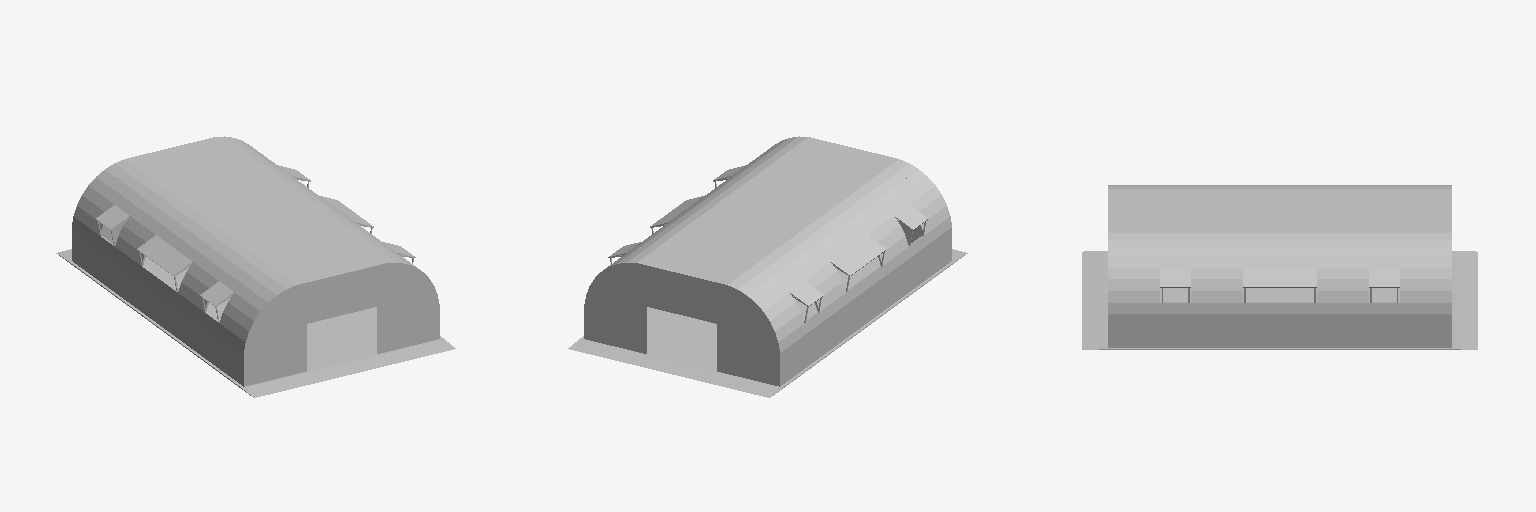
File: Military_Canvas.obj
3 renders of one model, left to right at view 1: azimuth 30°, elevation 25°; view 2: azimuth 150°, elevation 25°; view 3: azimuth 270°, elevation 25°, orthographic.
Visible parts, largest first — view 1: Part248, Part227, Base1, Part141, Part34, Part218, Part276, Part229, Part228, Part224, Part128, Part35 (+6 smaller); view 2: Part248, Part227, Base1, Part125, Part113, Part218, Part276, Part229, Part228, Part224, Part166, Part127 (+6 smaller); view 3: Part248, Part16, Part26, Part21, Part17, Base1, Part110, Part82, Part34, Part113, Part24, Part224 (+14 smaller).
Boxes of the visible parts, box(x1,y1,x2,y2) form: Part248: box(125, 137, 387, 285); Part227: box(72, 228, 244, 386); Base1: box(67, 257, 443, 388); Part141: box(297, 264, 387, 325); Part34: box(242, 339, 455, 397); Part218: box(89, 177, 268, 311); Part276: box(96, 170, 276, 302); Part229: box(105, 163, 286, 295); Part228: box(72, 216, 246, 352); Part224: box(115, 159, 296, 289); Part128: box(245, 341, 296, 385); Part35: box(387, 307, 438, 351); Part248: box(637, 137, 898, 285); Part227: box(779, 228, 951, 386); Base1: box(580, 257, 956, 388); Part125: box(637, 264, 726, 325); Part113: box(568, 339, 781, 397); Part218: box(755, 177, 934, 311); Part276: box(747, 170, 927, 302); Part229: box(737, 163, 918, 295); Part228: box(777, 216, 951, 352); Part224: box(727, 159, 908, 289); Part166: box(727, 341, 778, 385); Part127: box(585, 307, 636, 351); Part248: box(1108, 189, 1451, 232); Part16: box(1108, 314, 1451, 347); Part26: box(1108, 302, 1451, 313); Part21: box(1108, 257, 1451, 267); Part17: box(1108, 248, 1451, 256); Base1: box(1105, 251, 1454, 349); Part110: box(1108, 240, 1451, 247); Part82: box(1108, 233, 1451, 239); Part34: box(1082, 251, 1104, 349); Part113: box(1455, 251, 1477, 349); Part24: box(1243, 268, 1316, 287); Part224: box(1108, 186, 1451, 188).
Size of the model in its own units: 40 by 17 by 68.